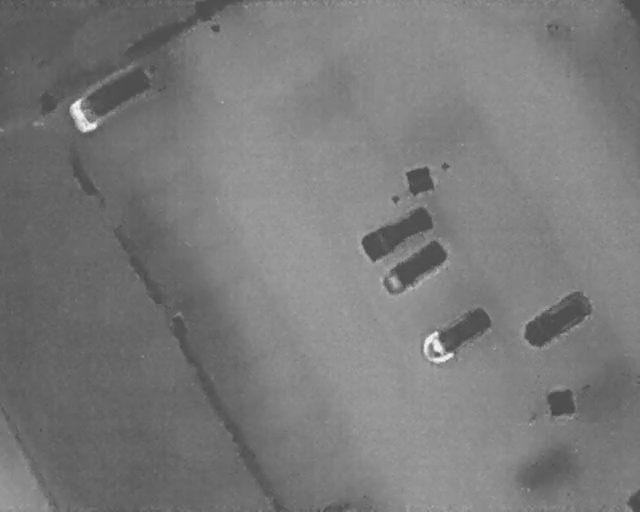Car: (64, 58, 162, 135), (415, 302, 497, 372), (518, 287, 598, 353), (357, 202, 438, 264), (378, 235, 452, 301)
